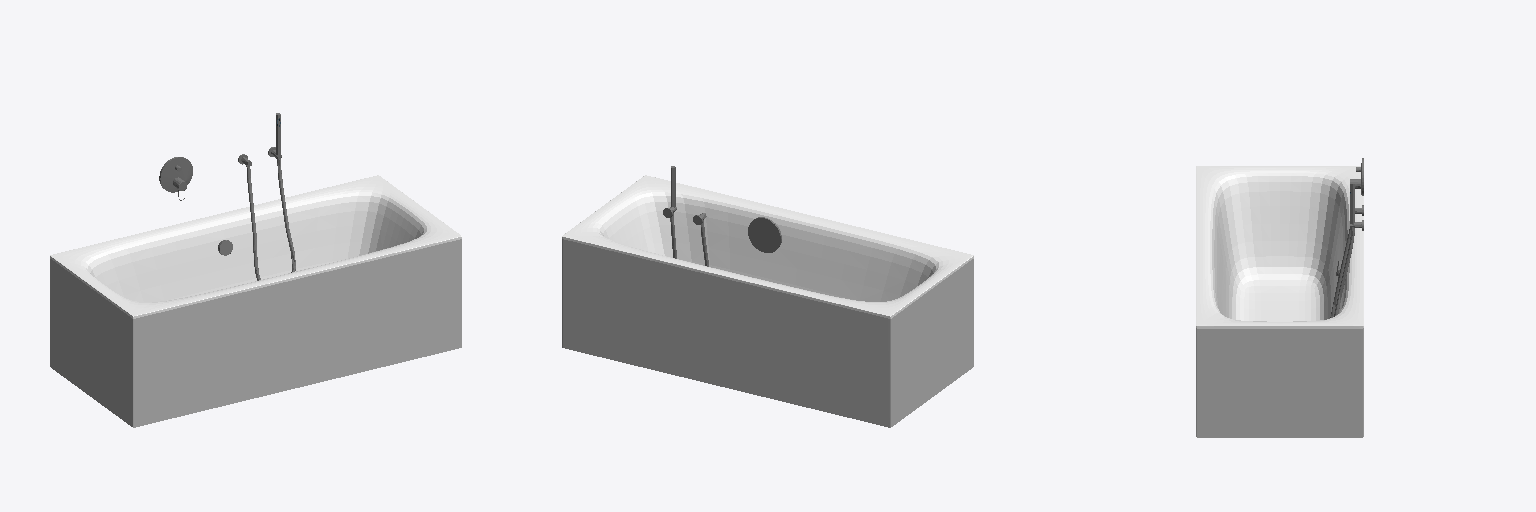
Rendered from bath.obj.
3 views of the same model, side by side, from view 1: azimuth 30°, elevation 25°; view 2: azimuth 150°, elevation 25°; view 3: azimuth 270°, elevation 25° (orthographic).
Parts seen in each view (by area): view 1: Box01_a07da[number redacted]e7d9f563cfcfc741fa5_11_Mesh_3, Box01_a07da[number redacted]e7d9f563cfcfc741fa5_1_Mesh_2, Line02_4c8e10b[number redacted]b84c110b0eb0288c4_1_Mesh_81, Cylinder02_2a1876cdb1764e2b9e6fa[number redacted]ad2_1_Mesh_85; view 2: Box01_a07da[number redacted]e7d9f563cfcfc741fa5_11_Mesh_3, Box01_a07da[number redacted]e7d9f563cfcfc741fa5_1_Mesh_2, Cylinder02_2a1876cdb1764e2b9e6fa[number redacted]ad2_1_Mesh_85; view 3: Box01_a07da[number redacted]e7d9f563cfcfc741fa5_1_Mesh_2, Box01_a07da[number redacted]e7d9f563cfcfc741fa5_11_Mesh_3, Line02_4c8e10b[number redacted]b84c110b0eb0288c4_1_Mesh_81.
Part boxes in pixels (x1,y1,x2,y2): Box01_a07da[number redacted]e7d9f563cfcfc741fa5_11_Mesh_3: (50,239,461,427); Box01_a07da[number redacted]e7d9f563cfcfc741fa5_1_Mesh_2: (50,175,461,318); Line02_4c8e10b[number redacted]b84c110b0eb0288c4_1_Mesh_81: (246,159,295,280); Cylinder02_2a1876cdb1764e2b9e6fa[number redacted]ad2_1_Mesh_85: (159,157,192,192); Box01_a07da[number redacted]e7d9f563cfcfc741fa5_11_Mesh_3: (562,239,973,427); Box01_a07da[number redacted]e7d9f563cfcfc741fa5_1_Mesh_2: (562,175,973,318); Cylinder02_2a1876cdb1764e2b9e6fa[number redacted]ad2_1_Mesh_85: (748,217,781,252); Box01_a07da[number redacted]e7d9f563cfcfc741fa5_1_Mesh_2: (1196,166,1363,328); Box01_a07da[number redacted]e7d9f563cfcfc741fa5_11_Mesh_3: (1196,328,1363,437); Line02_4c8e10b[number redacted]b84c110b0eb0288c4_1_Mesh_81: (1330,224,1354,317).
Bounding box in the file's own units: 1.7 × 0.9983 × 0.7501.